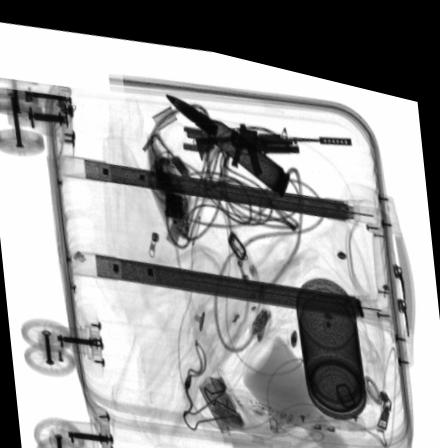Bullet: (164, 85, 289, 183)
Gun: (195, 110, 352, 164)
